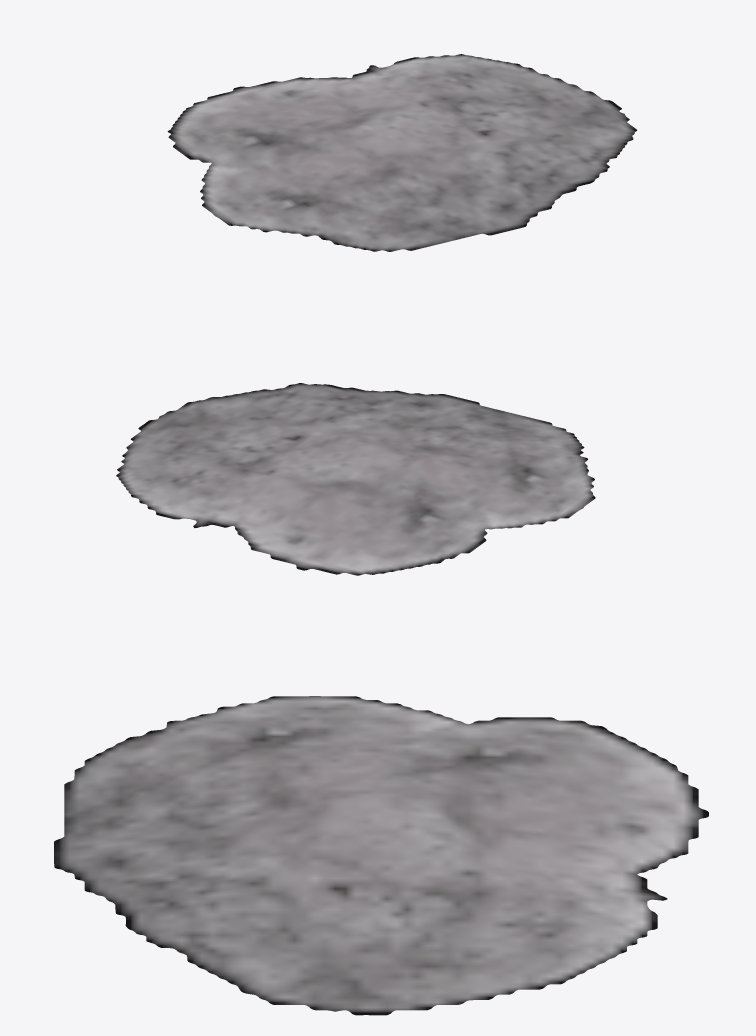
The model's file is Gum_1.FBX.
3 renders of one model, top to bottom at view 1: azimuth 30°, elevation 25°; view 2: azimuth 150°, elevation 25°; view 3: azimuth 270°, elevation 25°, orthographic. The views are drawn at different scales.
Visible parts, largest first — view 1: Gum_2; view 2: Gum_2; view 3: Gum_2.
Boxes of the visible parts, x1,y1,x2,y2 form: Gum_2: (167,54,636,251); Gum_2: (116,383,595,575); Gum_2: (54,696,708,1015).
Bounding box in the file's own units: 258 × 11.69 × 219.
1 material, 1 textured.
